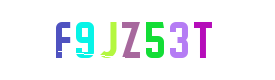3: (124, 0, 204, 80)
5: (114, 0, 194, 80)
9: (45, 0, 125, 80)
F: (21, 0, 101, 80)
J: (73, 0, 153, 80)
T: (137, 0, 217, 80)
Z: (98, 0, 178, 80)
